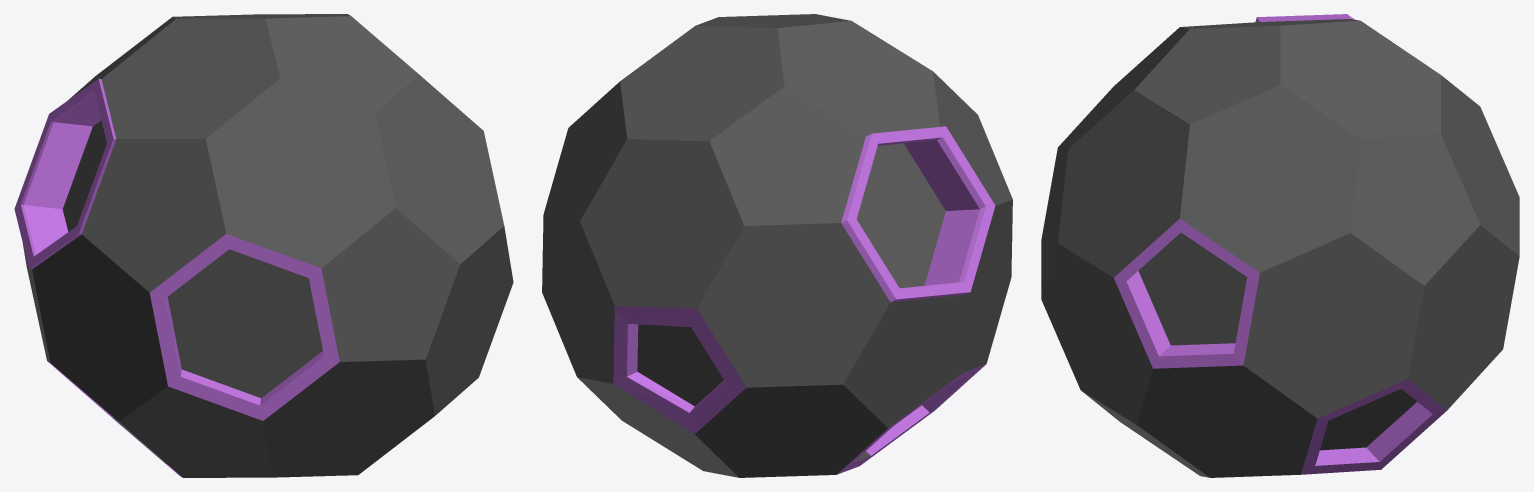
3 views of the same model, side by side, from view 1: azimuth 30°, elevation 25°; view 2: azimuth 150°, elevation 25°; view 3: azimuth 270°, elevation 25° (orthographic). The views are drawn at different scales.
Visible parts, largest first — view 1: pSolid1; view 2: pSolid1; view 3: pSolid1.
Part boxes in pixels (box(x1,y1,x2,y2)): pSolid1: box(14, 14, 513, 477); pSolid1: box(542, 14, 1012, 477); pSolid1: box(1041, 14, 1519, 477).
Size of the model in its own units: 1.99 by 2 by 1.95.
